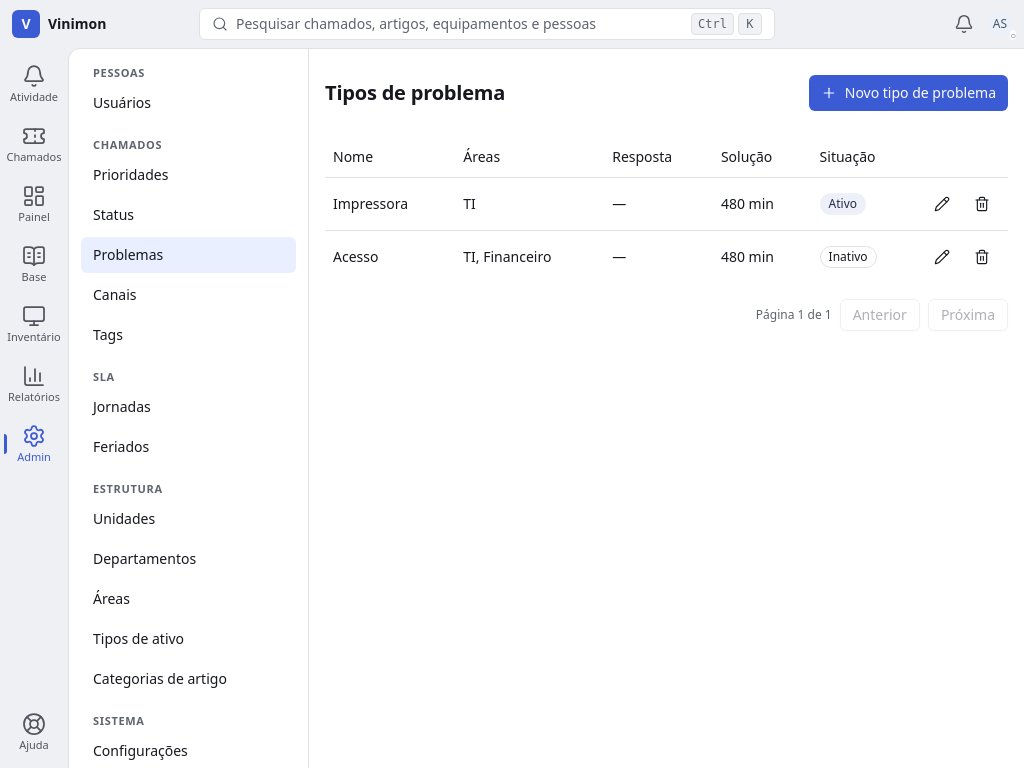
it: /admin/problemas › (b) criar com uma área faz POST /problemas com a área padrão igual à escolhida
The image size is (1024, 768).
Click the button "Novo tipo de problema" at (908, 93), box [809,75,1008,111]
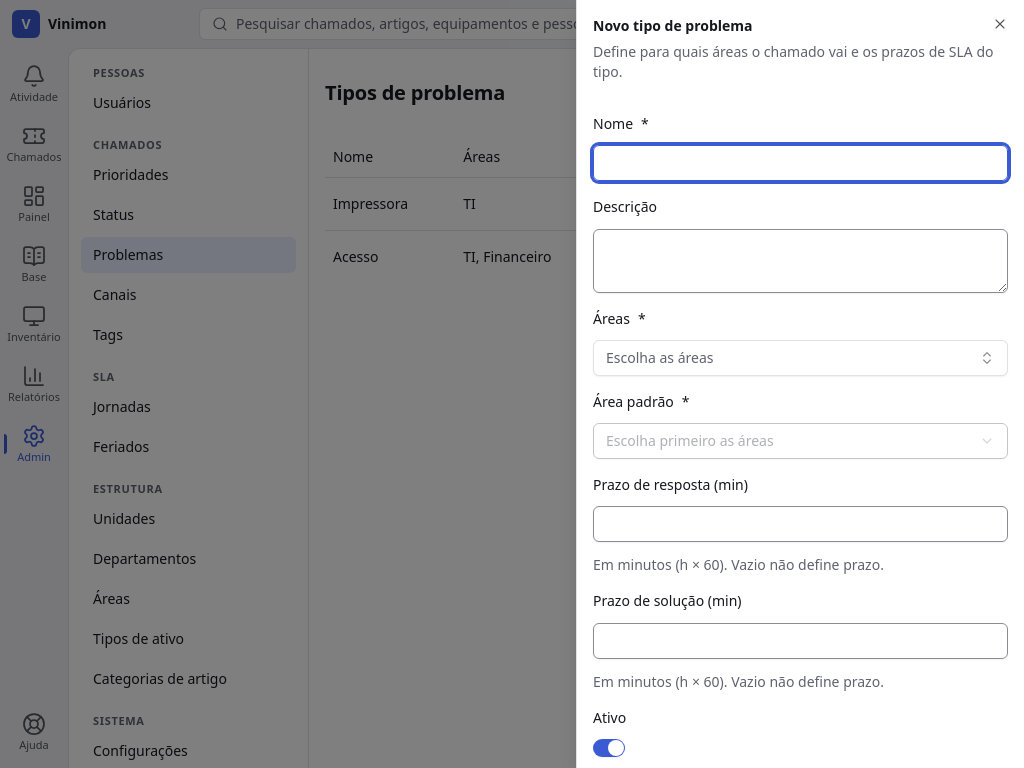
Type "Rede" into the field labelled "Nome *" at (800, 163), box [593,145,1008,181]
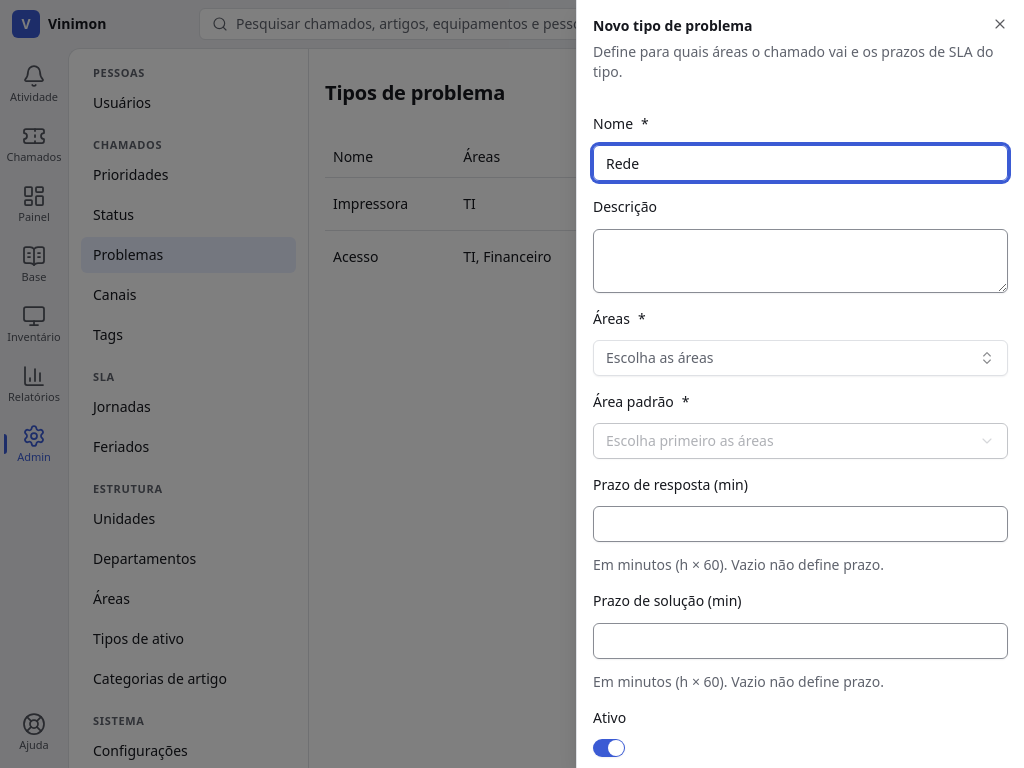
Click the dropdown labelled "Escolha as áreas" at (660, 357), box [593,340,1008,376]
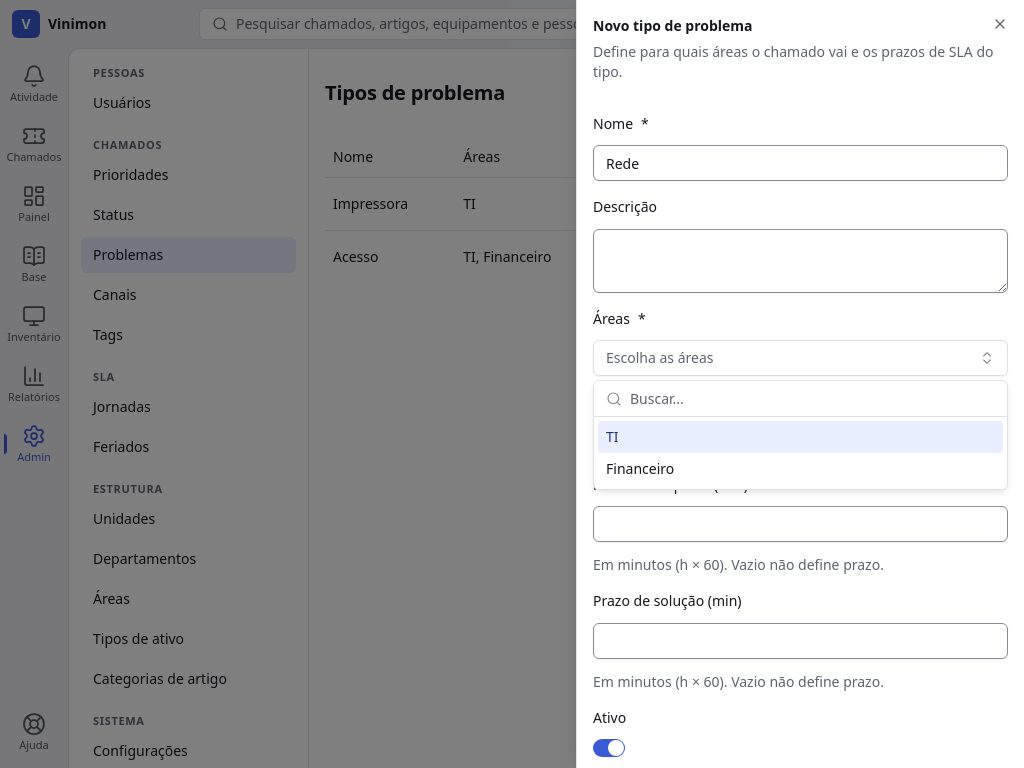
Click the option "Financeiro" at (640, 468), box [606,459,674,478]
(page scrolled)
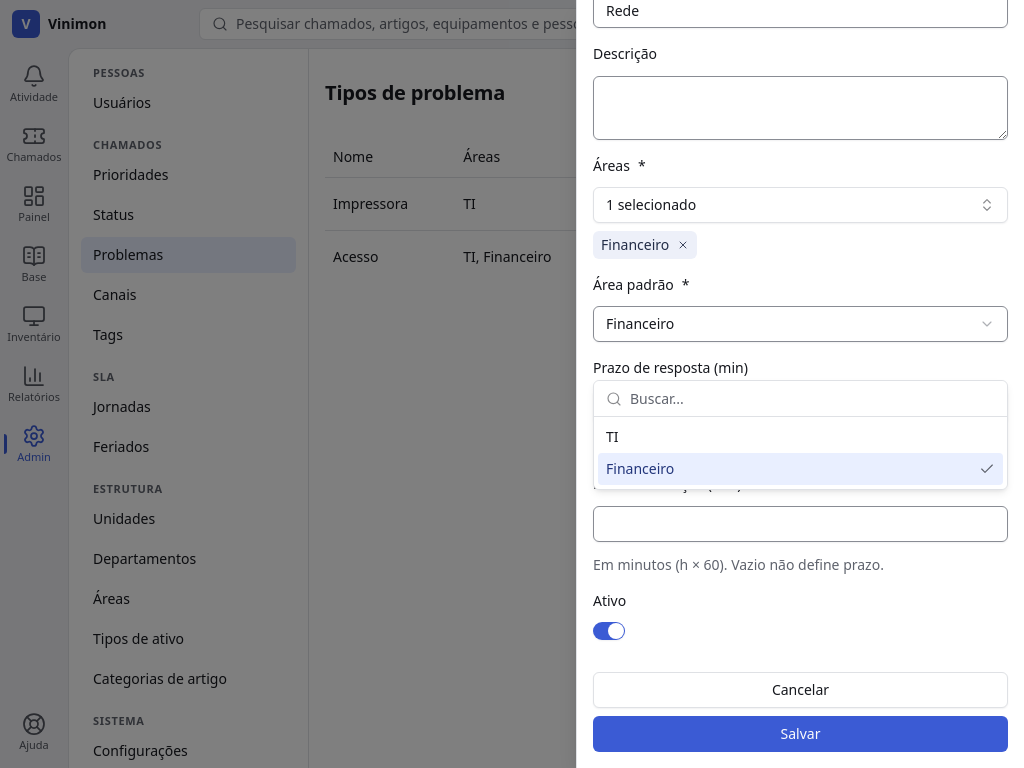
Click the button "Salvar" at (800, 734), box [593,716,1008,752]
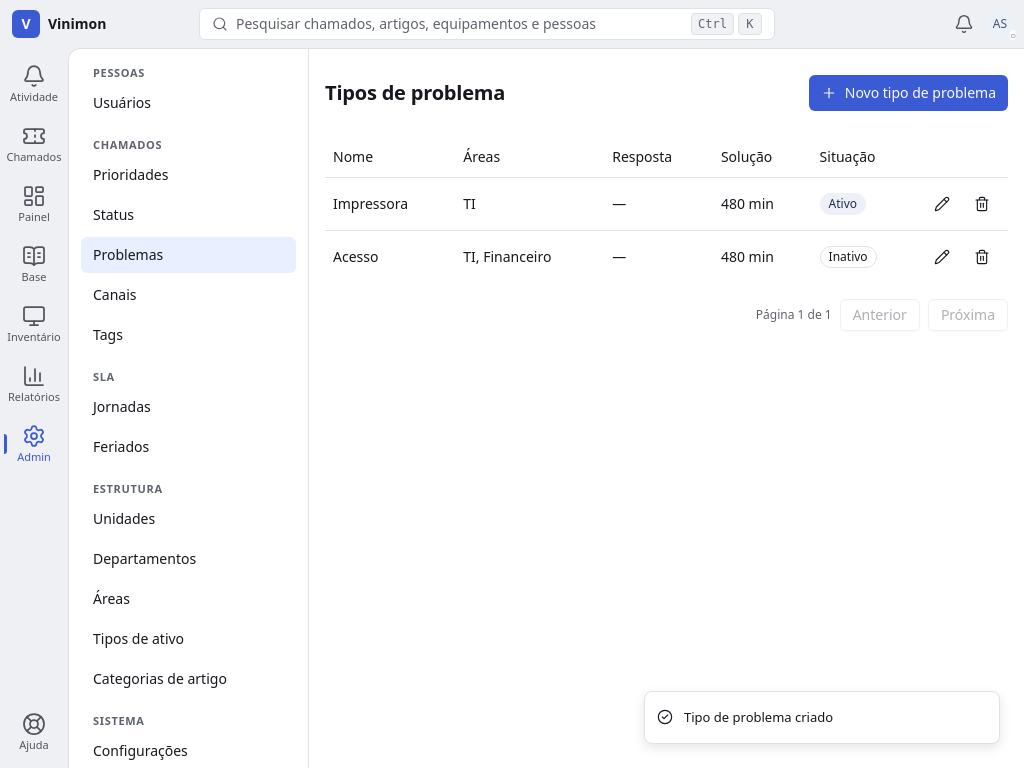
Check: the text "Tipo de problema criado" is shown, box [684,708,833,727]
